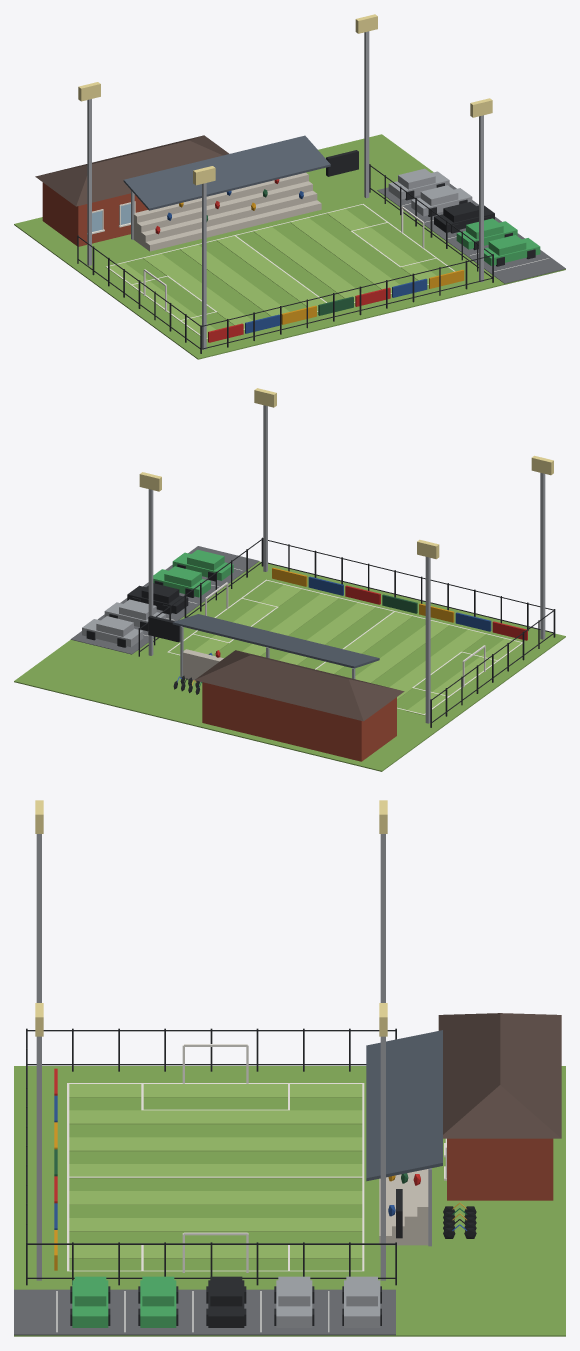
The model's file is Simge_stadyum_Hafif.fbx.
3 views of the same model, one above another, from view 1: azimuth 30°, elevation 25°; view 2: azimuth 150°, elevation 25°; view 3: azimuth 270°, elevation 25° (orthographic). The views are drawn at different scales.
Visible parts, largest first — view 1: Simge_stadyum_Hafif; view 2: Simge_stadyum_Hafif; view 3: Simge_stadyum_Hafif.
Part boxes in pixels (left/top/right/bottom): Simge_stadyum_Hafif: left=14, top=14, right=565, bottom=359; Simge_stadyum_Hafif: left=14, top=388, right=565, bottom=771; Simge_stadyum_Hafif: left=14, top=800, right=565, bottom=1336.
Size of the model in its own units: 30 by 14.08 by 26.
